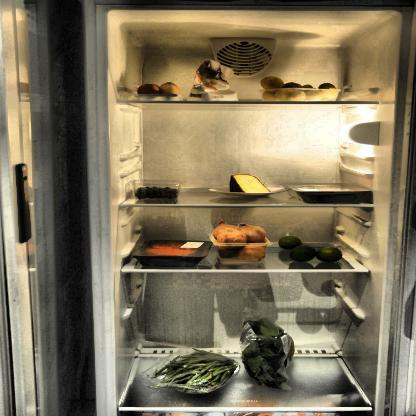beef: (139, 238, 200, 266)
blueberries: (132, 183, 180, 200)
cheese: (230, 174, 270, 195)
eggs: (135, 81, 185, 103)
green_beans: (148, 347, 234, 400)
lime: (277, 234, 346, 263)
onion: (211, 223, 271, 266)
potato: (260, 75, 341, 102)
spinach: (240, 314, 291, 394)
